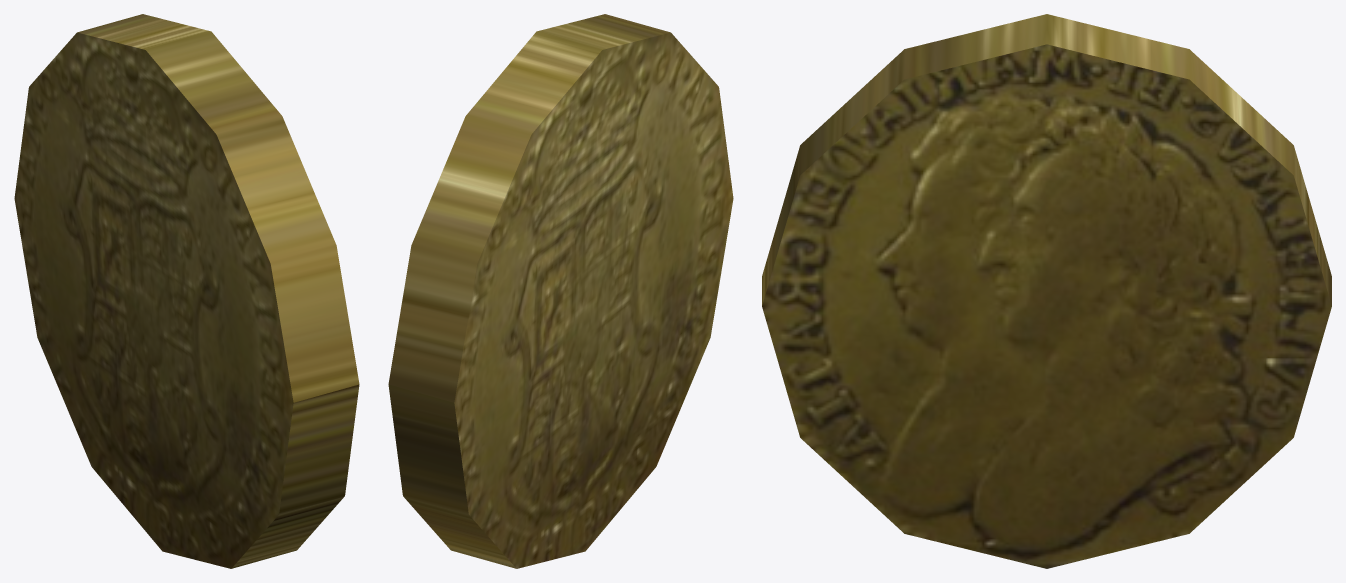
File: coin.fbx
The picture shows the model from 3 angles, left to right: view 1: azimuth 30°, elevation 25°; view 2: azimuth 150°, elevation 25°; view 3: azimuth 270°, elevation 25°; orthographic projection. The views are drawn at different scales.
Parts seen in each view (by area): view 1: coin; view 2: coin; view 3: coin.
Boxes of the visible parts, x1,y1,x2,y2 form: coin: [14, 14, 359, 568]; coin: [388, 14, 733, 568]; coin: [762, 14, 1331, 568].
Size of the model in its own units: 0.4707 by 2.76 by 2.75.
Materials: 1 (1 with a texture image).
